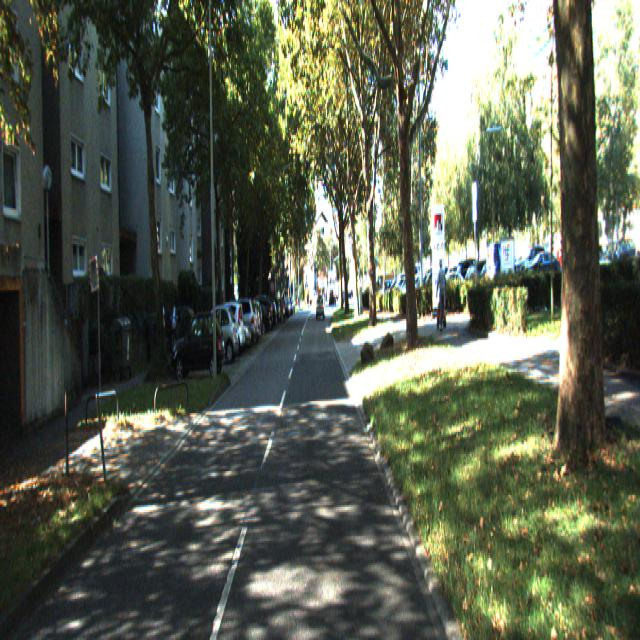Car: (171, 316, 226, 386), (194, 304, 240, 367), (204, 302, 247, 360)
